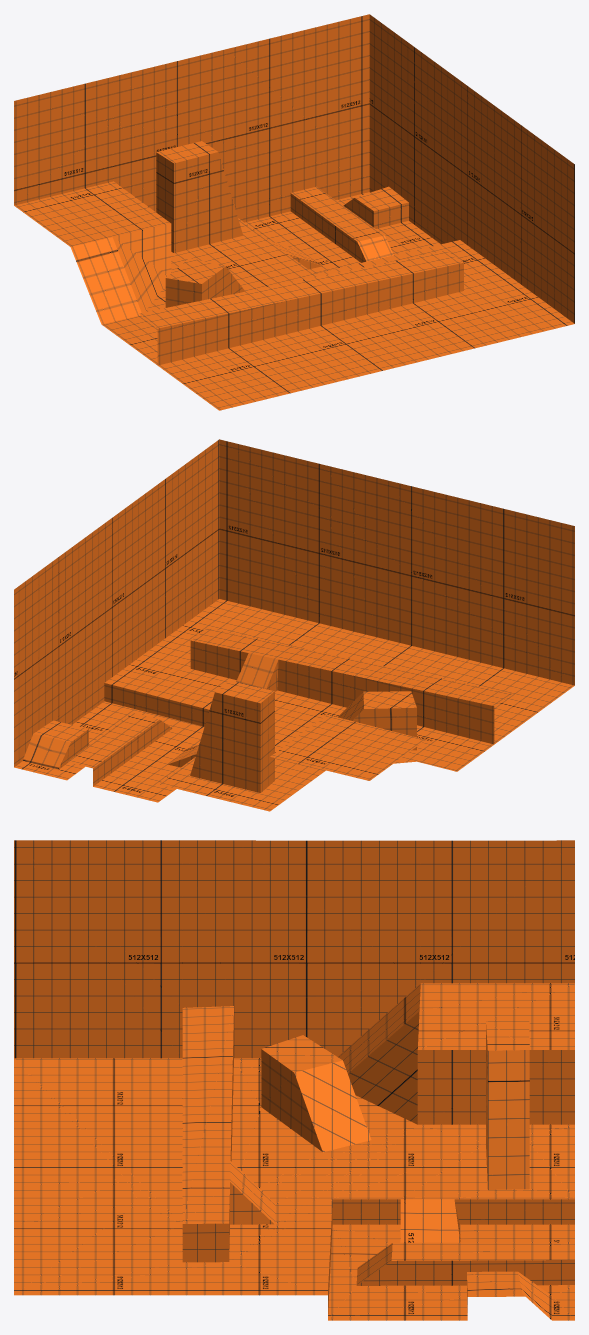
The picture shows the model from 3 angles, top to bottom: view 1: azimuth 30°, elevation 25°; view 2: azimuth 150°, elevation 25°; view 3: azimuth 270°, elevation 25°; orthographic projection. The views are drawn at different scales.
Visible parts, largest first — view 1: MeshInstance; view 2: MeshInstance; view 3: MeshInstance.
Part boxes in pixels (left/top/right/bottom): MeshInstance: left=14, top=14, right=574, bottom=410; MeshInstance: left=14, top=439, right=574, bottom=811; MeshInstance: left=14, top=840, right=574, bottom=1320.
Size of the model in its own units: 70 by 33.53 by 70.
1 material, 1 textured.
